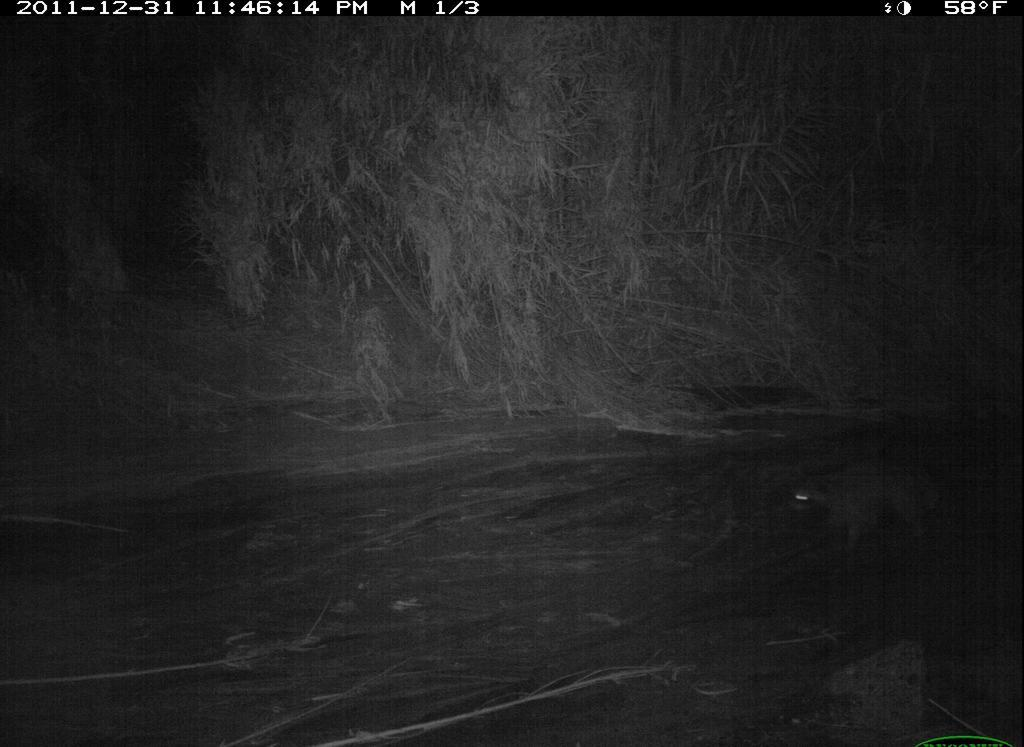raccoon: (780, 447, 964, 562)
